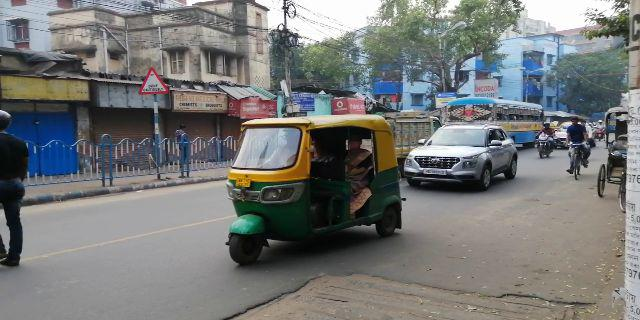Autorickshaw: (229, 119, 403, 258)
Bus: (446, 96, 547, 152)
Car: (408, 124, 524, 191)
Motorbike: (535, 132, 557, 159)
